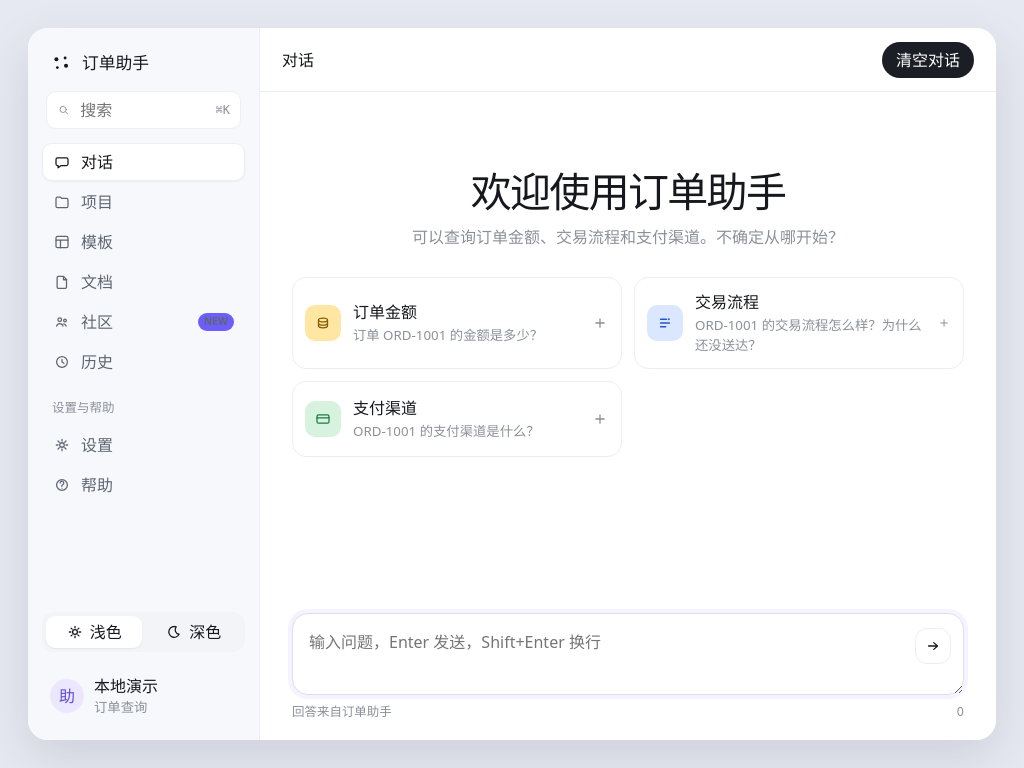
Scenario: 订单助手对话 › 请求进行中显示加载状态，并且不能重复提交
The width and height of the screenshot is (1024, 768).
Type "查一下订单 ORD-1001" into the text box named "消息" at {"x": 628, "y": 654}, box x1=293 y1=614 x2=963 y2=694
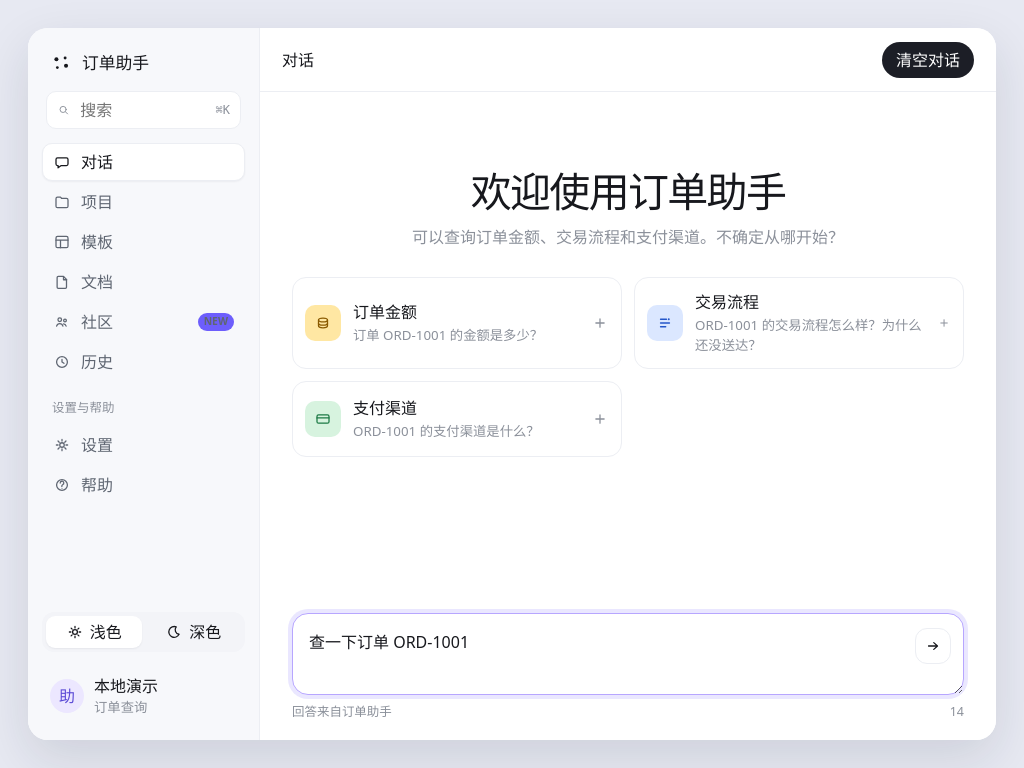
Click the button named "发送" at {"x": 933, "y": 646}, box x1=915 y1=628 x2=951 y2=664
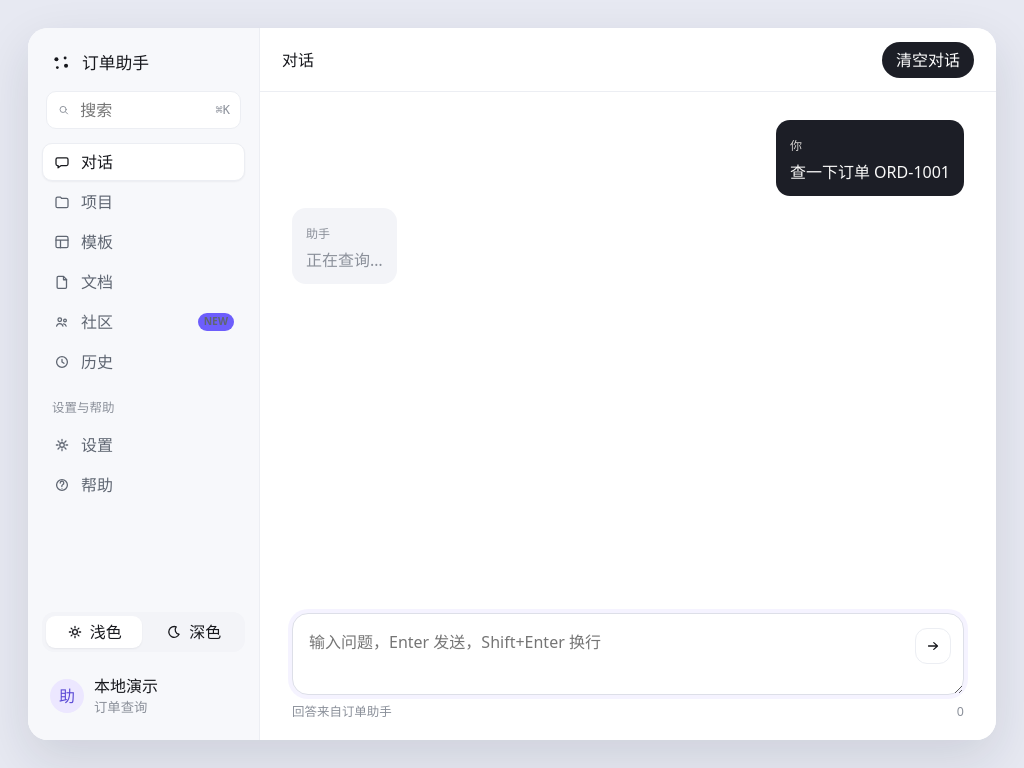
Now the text "正在查询…" is shown, box x1=306 y1=248 x2=383 y2=272
Click the button named "发送中" at {"x": 933, "y": 646}, box x1=915 y1=628 x2=951 y2=664
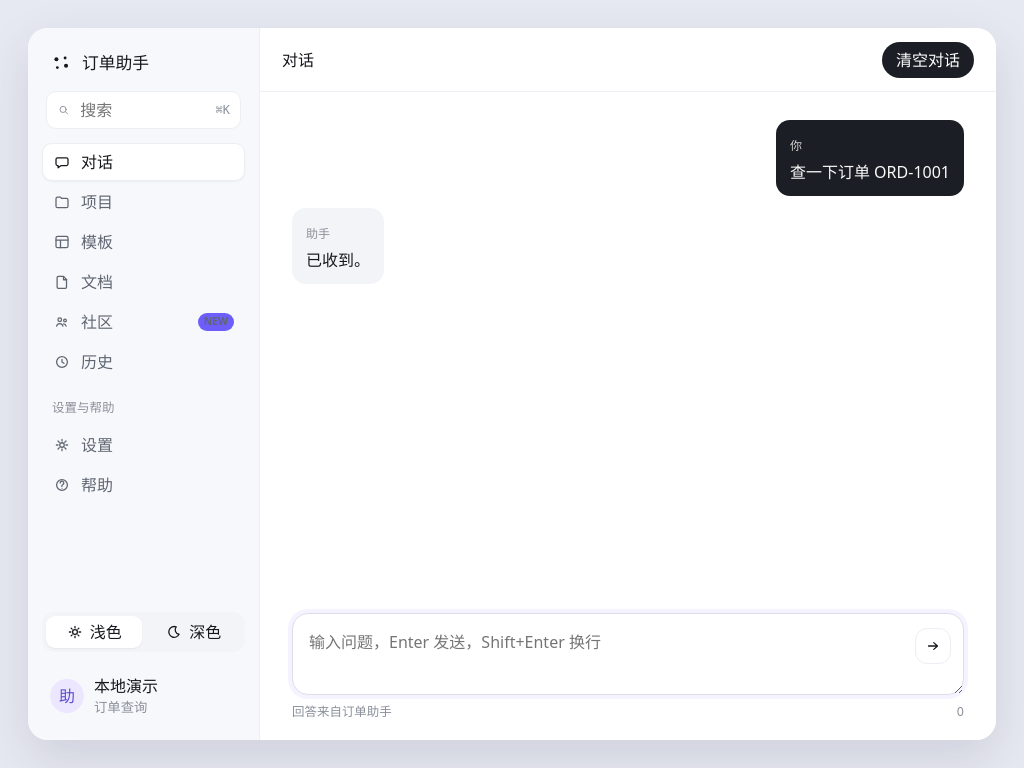
Now the text "已收到。" is shown, box x1=306 y1=248 x2=370 y2=272
